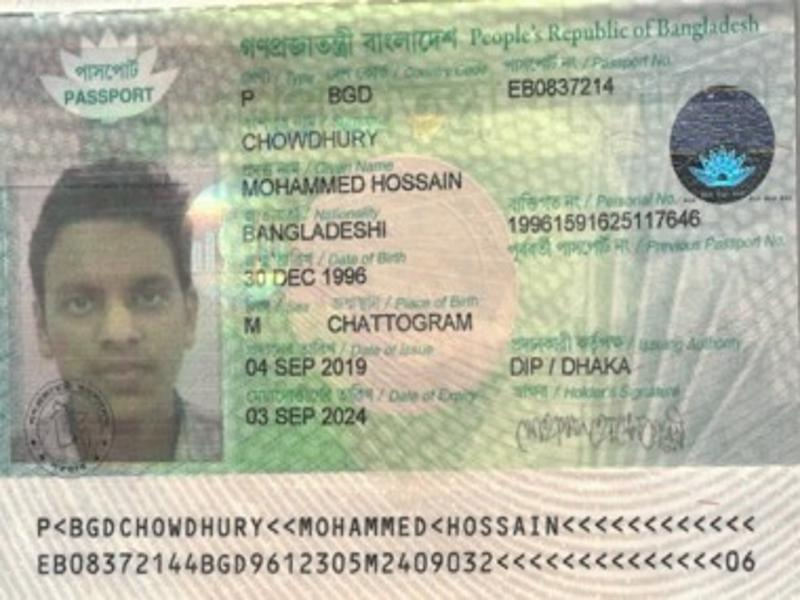passport-no: (494, 68, 631, 113)
